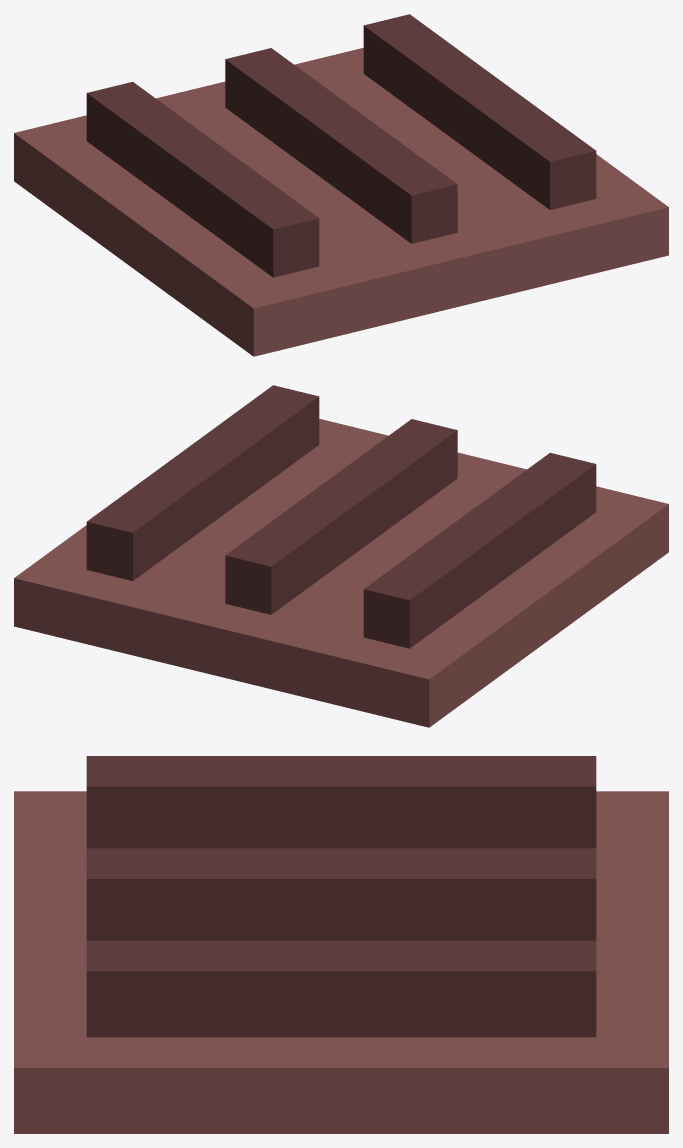
The model's file is Empty Plot.obj.
The picture shows the model from 3 angles, top to bottom: view 1: azimuth 30°, elevation 25°; view 2: azimuth 150°, elevation 25°; view 3: azimuth 270°, elevation 25°; orthographic projection. The views are drawn at different scales.
Size of the model in its own units: 0.9 by 0.2 by 0.9.
1 material, 1 textured.
